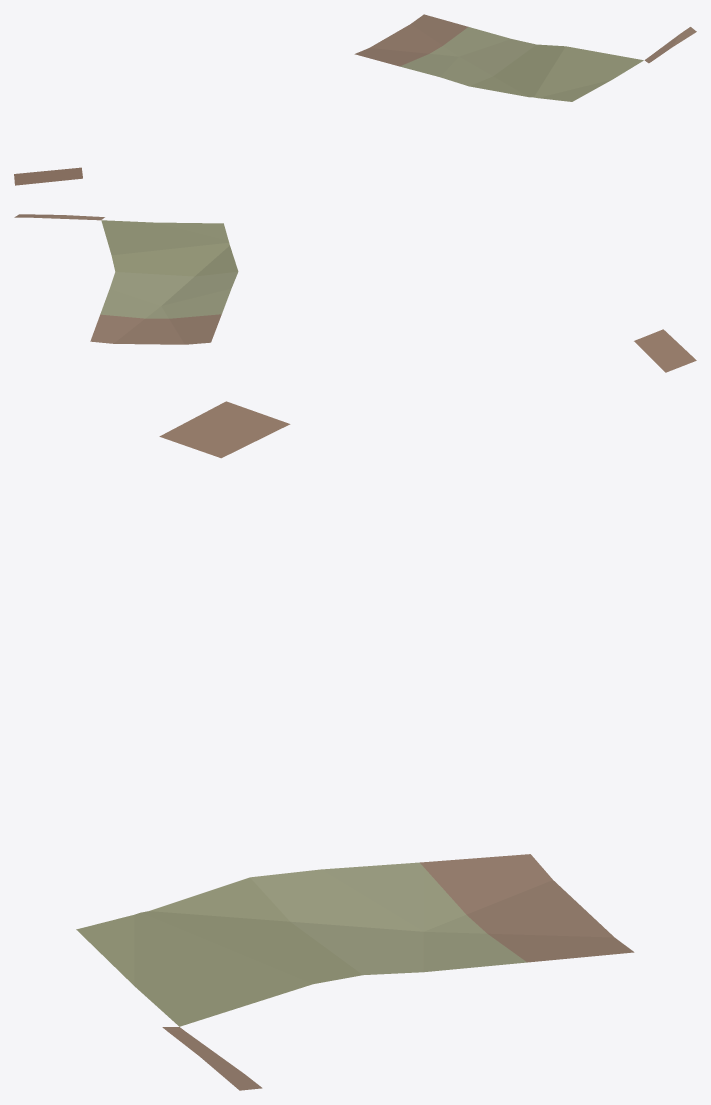
Rendered from farm_-35_-34_soil.glb.
3 views of the same model, one above another, from view 1: azimuth 30°, elevation 25°; view 2: azimuth 150°, elevation 25°; view 3: azimuth 270°, elevation 25° (orthographic). The views are drawn at different scales.
Parts seen in each view (by area): view 1: geometry_0; view 2: geometry_0; view 3: geometry_0.
Part boxes in pixels (<box>): geometry_0: <box>14,14,696,185</box>; geometry_0: <box>14,214,696,372</box>; geometry_0: <box>76,401,634,1090</box>.
Bounding box in the file's own units: 431 × 22.99 × 154.
